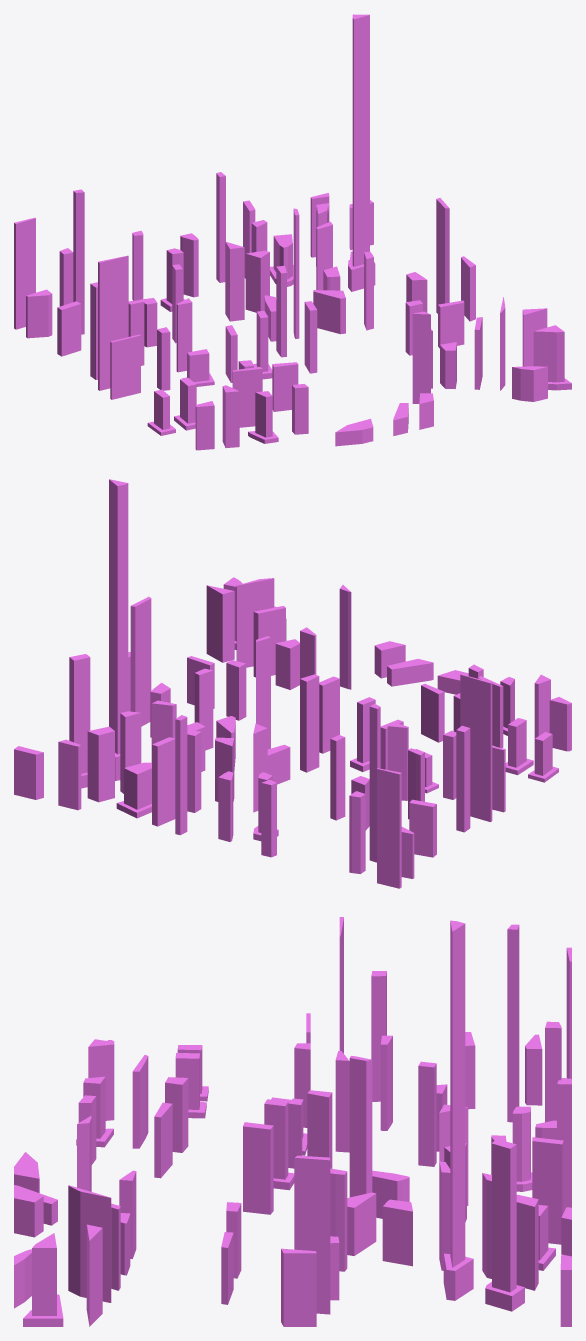
The model's file is buildings_00077.obj.
3 views of the same model, one above another, from view 1: azimuth 30°, elevation 25°; view 2: azimuth 150°, elevation 25°; view 3: azimuth 270°, elevation 25° (orthographic). The views are drawn at different scales.
Size of the model in its own units: 1460 by 1057 by 1460.
